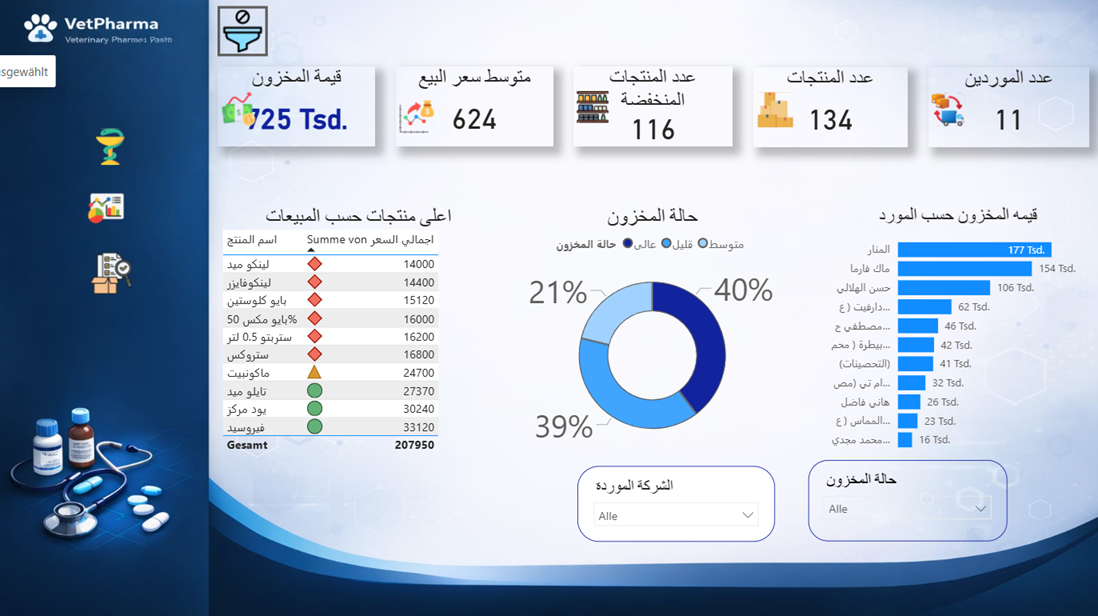

The dashboard page shown, as its layout file describes it:
{"tool":"powerbi","page":{"name":"dashboard","canvas":[1280,720],"ordinal":1},"visuals":[{"type":"card","title":"قيمة المخزون","fields":{"Values":["Sum(المخزون1.اجمالي السعر)"]},"box":[255.4,80.8,183.2,93.8],"z":0},{"type":"card","title":"عدد المنتجات","fields":{"Values":["Count(المخزون1.اسم المنتج)"]},"box":[877.9,82.2,178.9,93.8],"z":1000},{"type":"card","title":"عدد المنتجات المنخفضة","fields":{"Values":["table.عدد المنخفض"]},"box":[669.4,80.8,184.7,93.8],"z":2000},{"type":"card","title":"عدد الموردين","fields":{"Values":["Count(table.الشركة الموردة )"]},"box":[1080.6,82.2,187.6,93.8],"z":3000},{"type":"card","title":"متوسط سعر البيع","fields":{"Values":["Avg(table.سعر الواحدة )"]},"box":[462.4,80.8,183.2,93.8],"z":4000},{"type":"barChart","title":"قيمه المخزون حسب المورد","fields":{"Category":["المخزون1.الشركة الموردة "],"Y":["Sum(table.اجمالي السعر)"]},"box":[950.8,242.4,328.9,295.8],"z":5000},{"type":"donutChart","title":"حالة المخزون","fields":{"Y":["Sum(table.الكمية)"],"Category":["table.حالة المخزون"]},"box":[587.2,242.4,346.3,295.8],"z":6000},{"type":"tableEx","title":"اعلى منتجات حسب المبيعات","fields":{"Values":["Top product.اسم المنتج","Sum(Top product.اجمالي السعر)"]},"box":[255.4,242.4,327.5,295.8],"z":7000},{"type":"actionButton","box":[255.4,88,49,86.6],"z":8000},{"type":"actionButton","box":[878.6,89.5,49,85.1],"z":9000},{"type":"actionButton","box":[1080.6,90.9,46.2,83.7],"z":10000},{"type":"actionButton","box":[669.4,82.2,44.7,92.3],"z":11000},{"type":"actionButton","box":[461.9,108.5,48.7,65.4],"z":12000},{"type":"slicer","fields":{"Values":["table.حالة المخزون"]},"box":[941.9,538.4,231,94.6],"z":13000},{"type":"slicer","fields":{"Values":["table.الشركة الموردة "]},"box":[673.4,545.4,229.6,87.7],"z":14000},{"type":"actionButton","title":"unfilter","box":[256,11.1,58.4,58.4],"z":15000},{"type":"actionButton","box":[105.3,147.2,50.5,54.8],"z":16000},{"type":"actionButton","box":[99.5,220.7,57.7,51.9],"z":17000},{"type":"actionButton","box":[103,292.2,57,58.4],"z":18000}]}

Visuals, with their boxes on the page's 1280x720 design canvas (x1, y1, x2, y2). These are canvas units, not pixel positions in the 1098x616 screenshot, which may show the page scaled, cropped or inside an application window:
"قيمة المخزون" card: box=[255, 81, 439, 175]
"عدد المنتجات" card: box=[878, 82, 1057, 176]
"عدد المنتجات المنخفضة" card: box=[669, 81, 854, 175]
"عدد الموردين" card: box=[1081, 82, 1268, 176]
"متوسط سعر البيع" card: box=[462, 81, 646, 175]
"قيمه المخزون حسب المورد" barChart: box=[951, 242, 1280, 538]
"حالة المخزون" donutChart: box=[587, 242, 934, 538]
"اعلى منتجات حسب المبيعات" tableEx: box=[255, 242, 583, 538]
actionButton: box=[255, 88, 304, 175]
actionButton: box=[879, 90, 928, 175]
actionButton: box=[1081, 91, 1127, 175]
actionButton: box=[669, 82, 714, 174]
actionButton: box=[462, 108, 511, 174]
slicer - table.حالة المخزون: box=[942, 538, 1173, 633]
slicer - table.الشركة الموردة : box=[673, 545, 903, 633]
"unfilter" actionButton: box=[256, 11, 314, 70]
actionButton: box=[105, 147, 156, 202]
actionButton: box=[100, 221, 157, 273]
actionButton: box=[103, 292, 160, 351]
